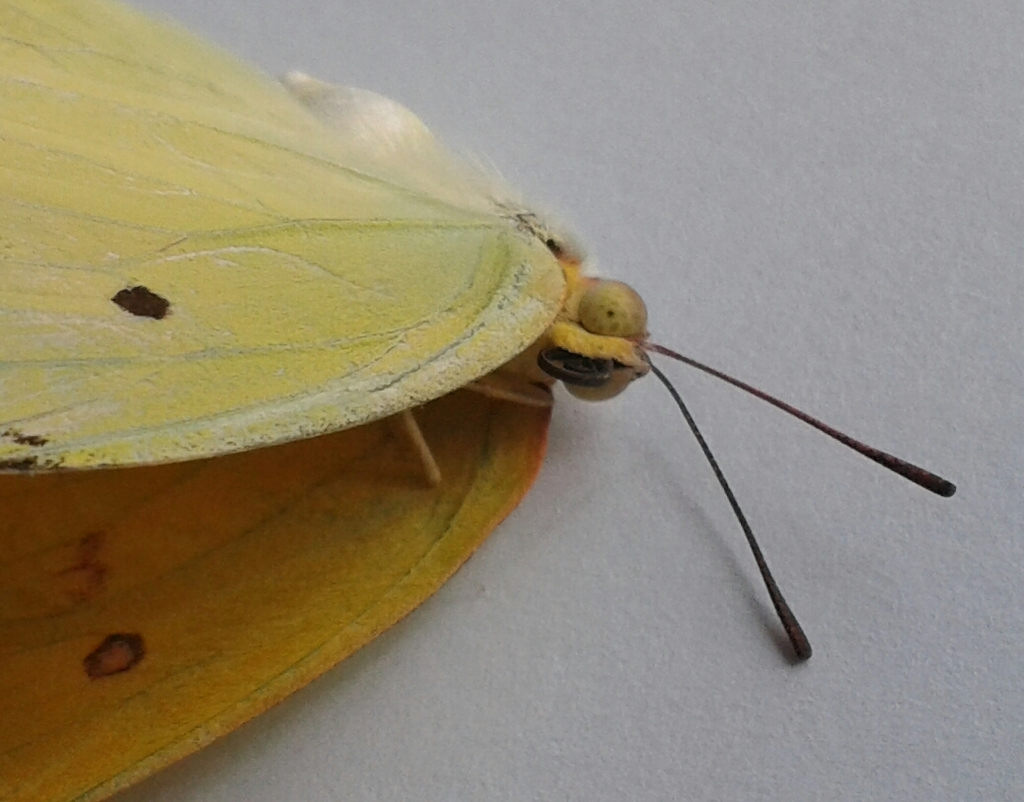Butterfly: (2, 1, 773, 802)
